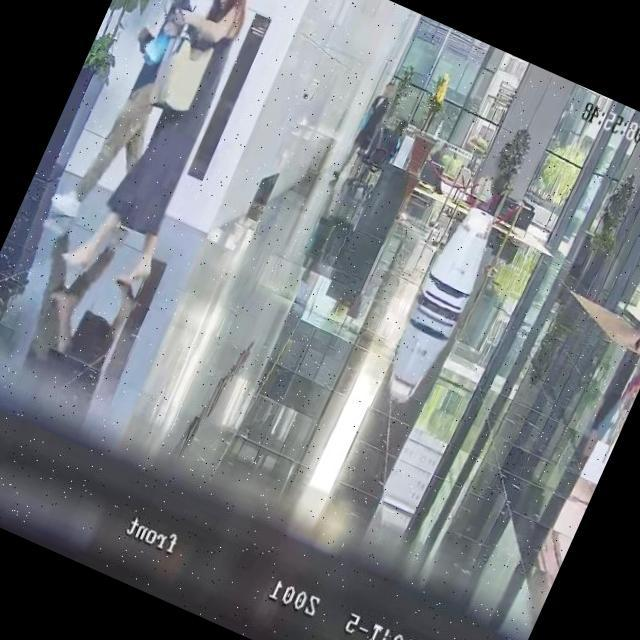person: (55, 0, 284, 304), (48, 0, 227, 236), (336, 76, 399, 184), (418, 141, 461, 196), (376, 114, 412, 170)
